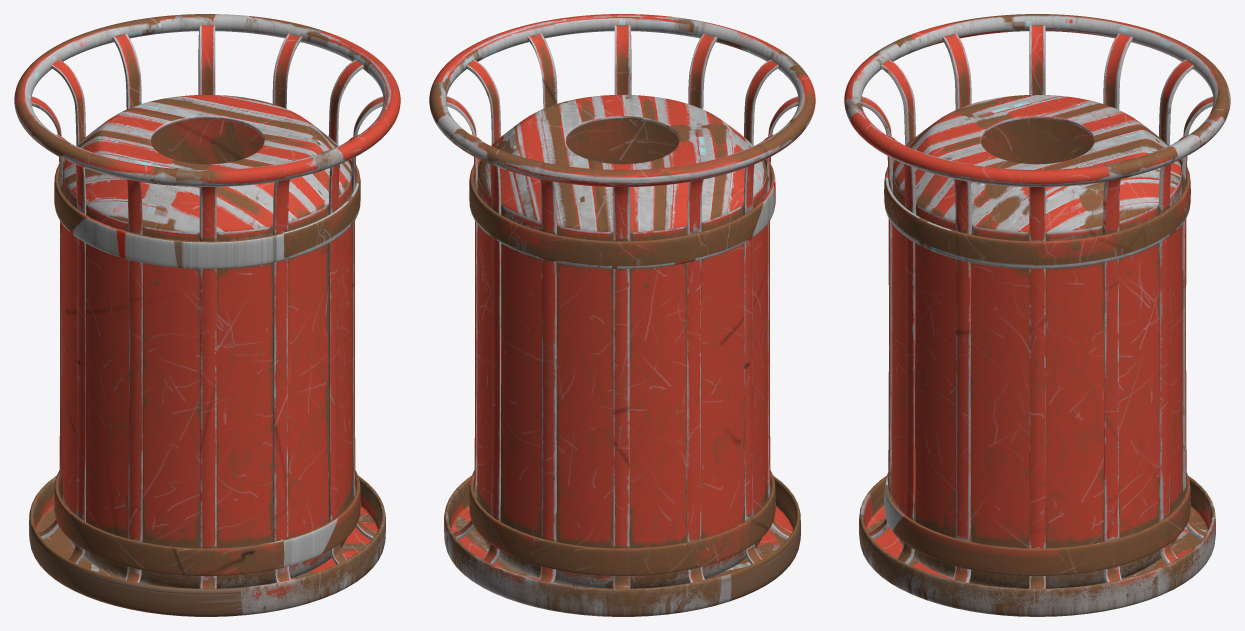
The model's file is bote_basura.fbx.
3 views of the same model, side by side, from view 1: azimuth 30°, elevation 25°; view 2: azimuth 150°, elevation 25°; view 3: azimuth 270°, elevation 25° (orthographic).
Visible parts, largest first — view 1: StreetTrash001; view 2: StreetTrash001; view 3: StreetTrash001.
Boxes of the visible parts, left/top/right/bottom form: StreetTrash001: left=14, top=14, right=400, bottom=616; StreetTrash001: left=429, top=14, right=815, bottom=616; StreetTrash001: left=844, top=14, right=1230, bottom=616.
Bounding box in the file's own units: 0.5419 × 0.7 × 0.5419.
1 material, 1 textured.
